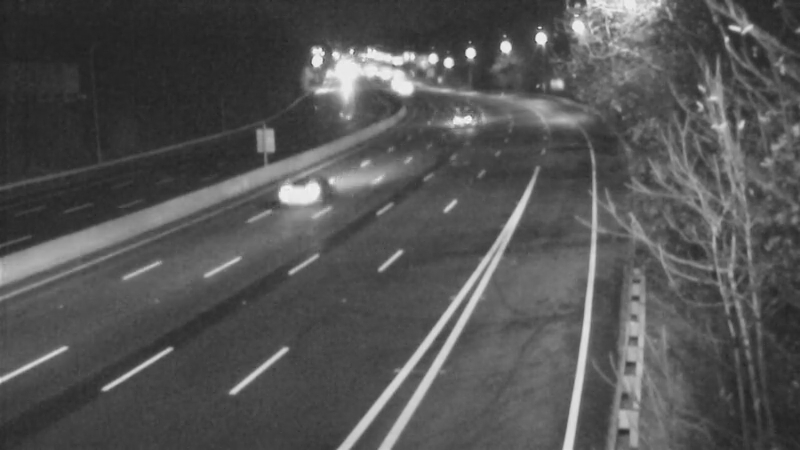vehicle: (253, 153, 333, 233), (380, 63, 430, 113), (432, 93, 482, 143)
